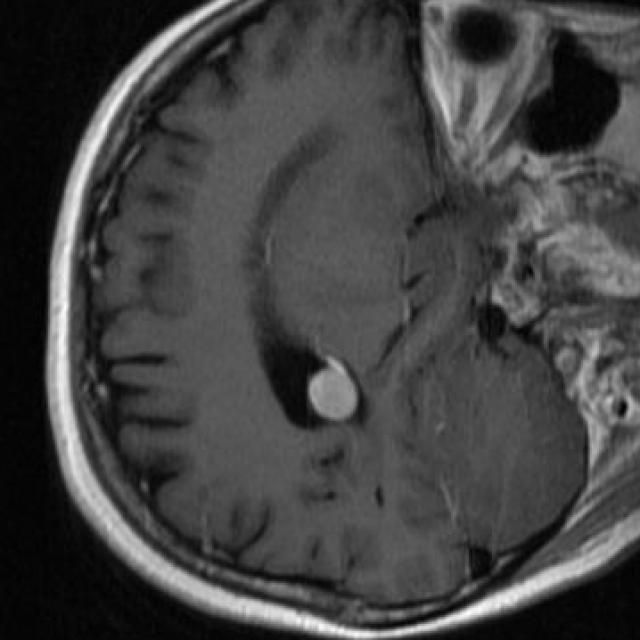meningioma: (312, 371, 355, 423)
